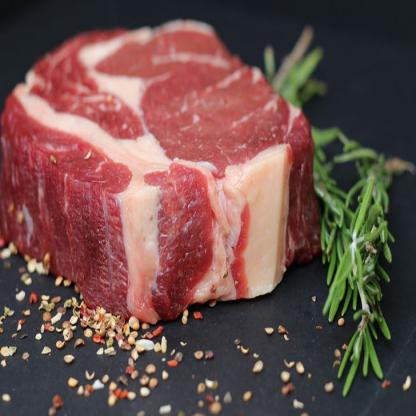beef: (2, 0, 314, 322)
